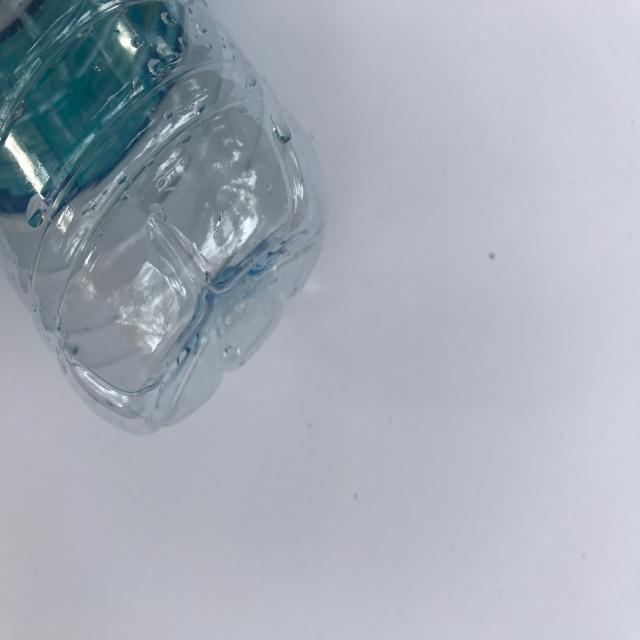plastic: (0, 2, 330, 440)
